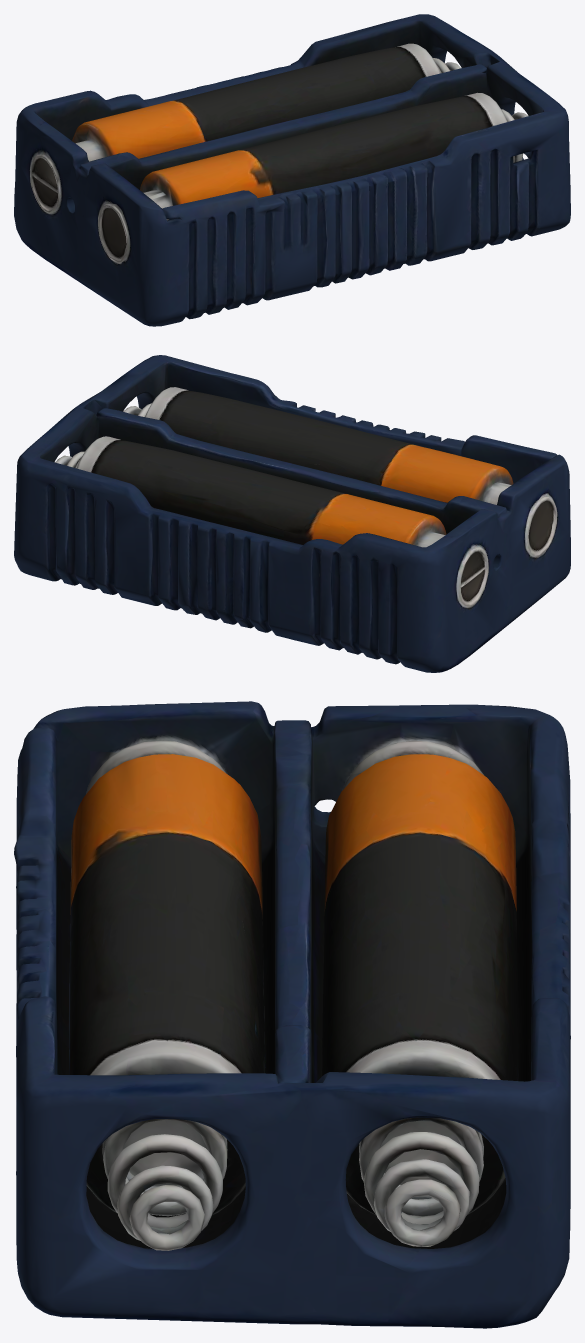
Rendered from battery.glb.
3 views of the same model, one above another, from view 1: azimuth 30°, elevation 25°; view 2: azimuth 150°, elevation 25°; view 3: azimuth 270°, elevation 25° (orthographic). The views are drawn at different scales.
Visible parts, largest first — view 1: tripo_node_eeaa1418-f187-4b99-b97b-94266066edda; view 2: tripo_node_eeaa1418-f187-4b99-b97b-94266066edda; view 3: tripo_node_eeaa1418-f187-4b99-b97b-94266066edda.
Boxes of the visible parts, x1=… form: tripo_node_eeaa1418-f187-4b99-b97b-94266066edda: x1=14, y1=14, x2=570, y2=326; tripo_node_eeaa1418-f187-4b99-b97b-94266066edda: x1=14, y1=355, x2=570, y2=672; tripo_node_eeaa1418-f187-4b99-b97b-94266066edda: x1=14, y1=701, x2=570, y2=1328.
Bounding box in the file's own units: 1 × 0.2779 × 0.5816.
1 material, 1 textured.
